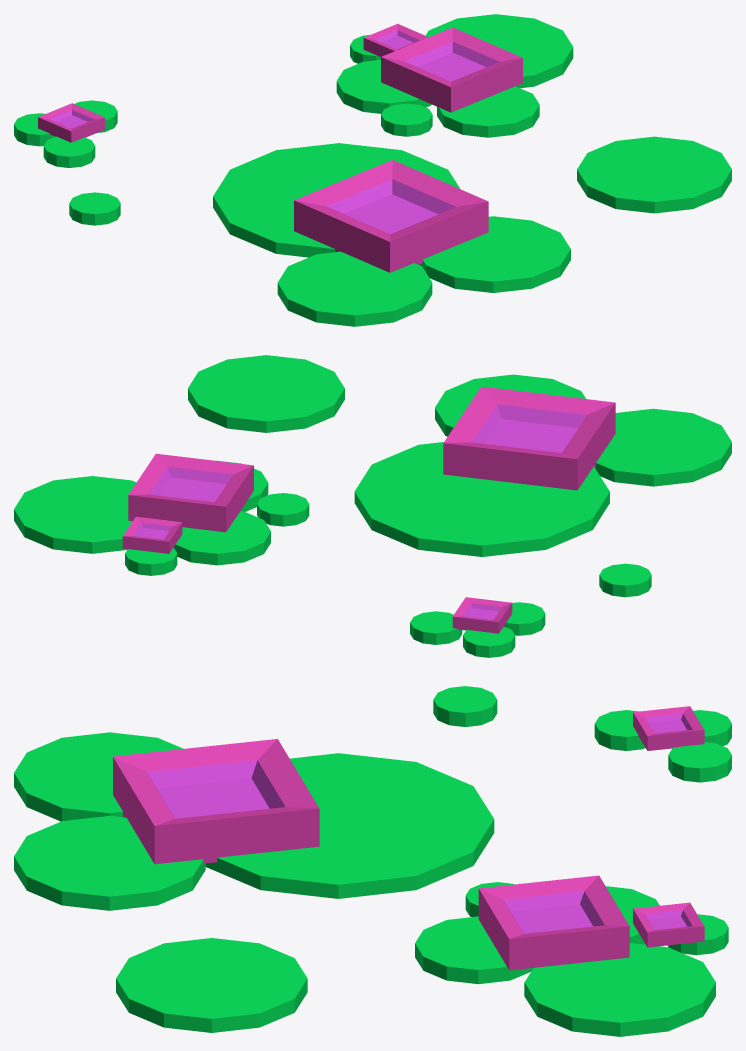
File: WaterLilyPatch.fbx
The picture shows the model from 3 angles, top to bottom: view 1: azimuth 30°, elevation 25°; view 2: azimuth 150°, elevation 25°; view 3: azimuth 270°, elevation 25°; orthographic projection. The views are drawn at different scales.
Visible parts, largest first — view 1: Cylinder.012; view 2: Cylinder.012; view 3: Cylinder.012.
Boxes of the visible parts, x1=… form: Cylinder.012: x1=14, y1=14, x2=731, y2=326; Cylinder.012: x1=14, y1=355, x2=731, y2=657; Cylinder.012: x1=14, y1=686, x2=731, y2=1036.
Bounding box in the file's own units: 159 × 174 × 12.75.
